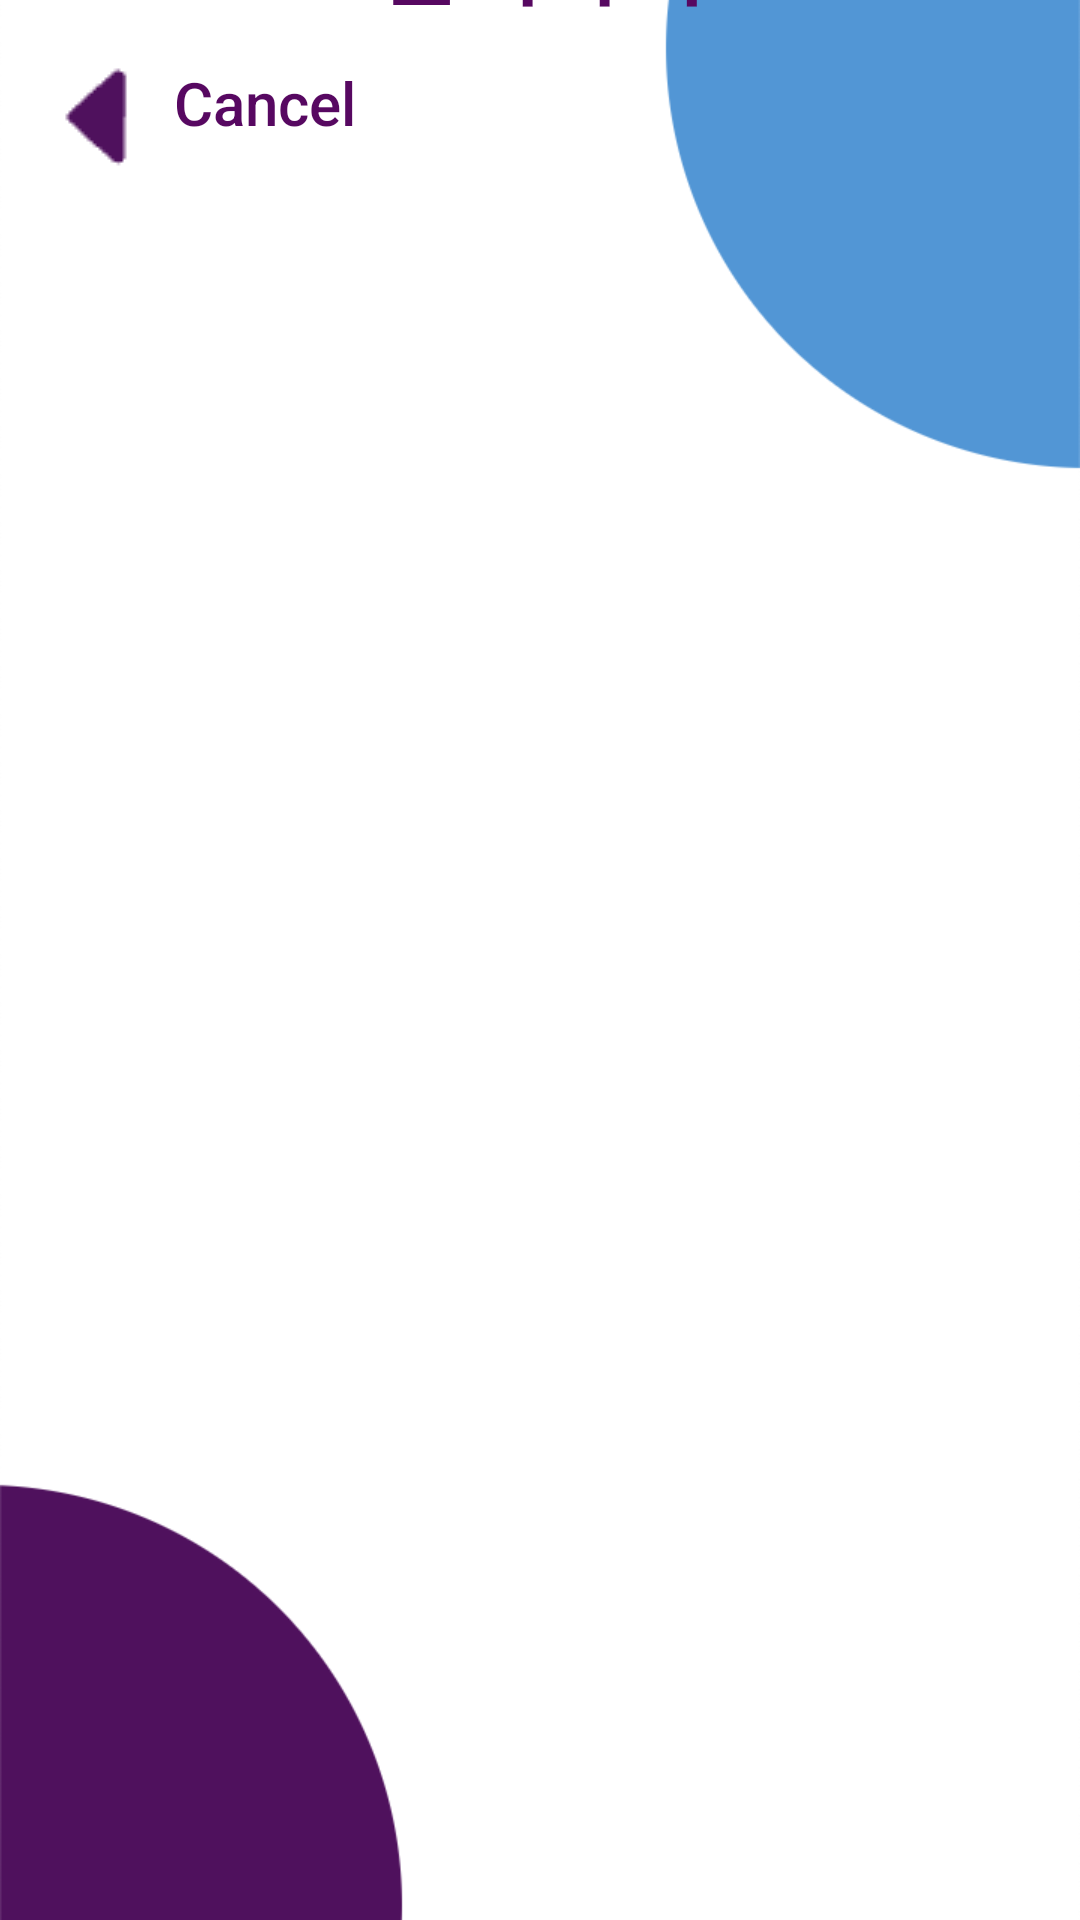

Screen size 1080px×1920px. Icon name, then its box in pixels as detection(x1, y1, x2, y2):
previous: detection(65, 68, 127, 165)
